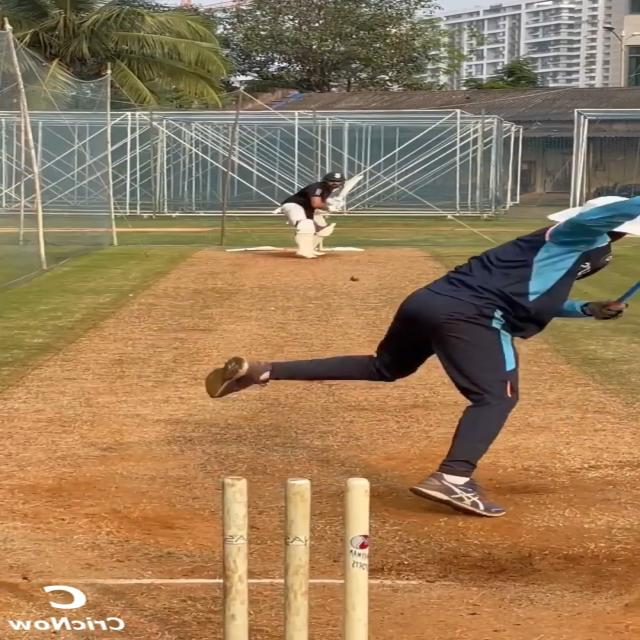ball: (350, 276, 360, 281)
stump: (218, 476, 372, 640)
